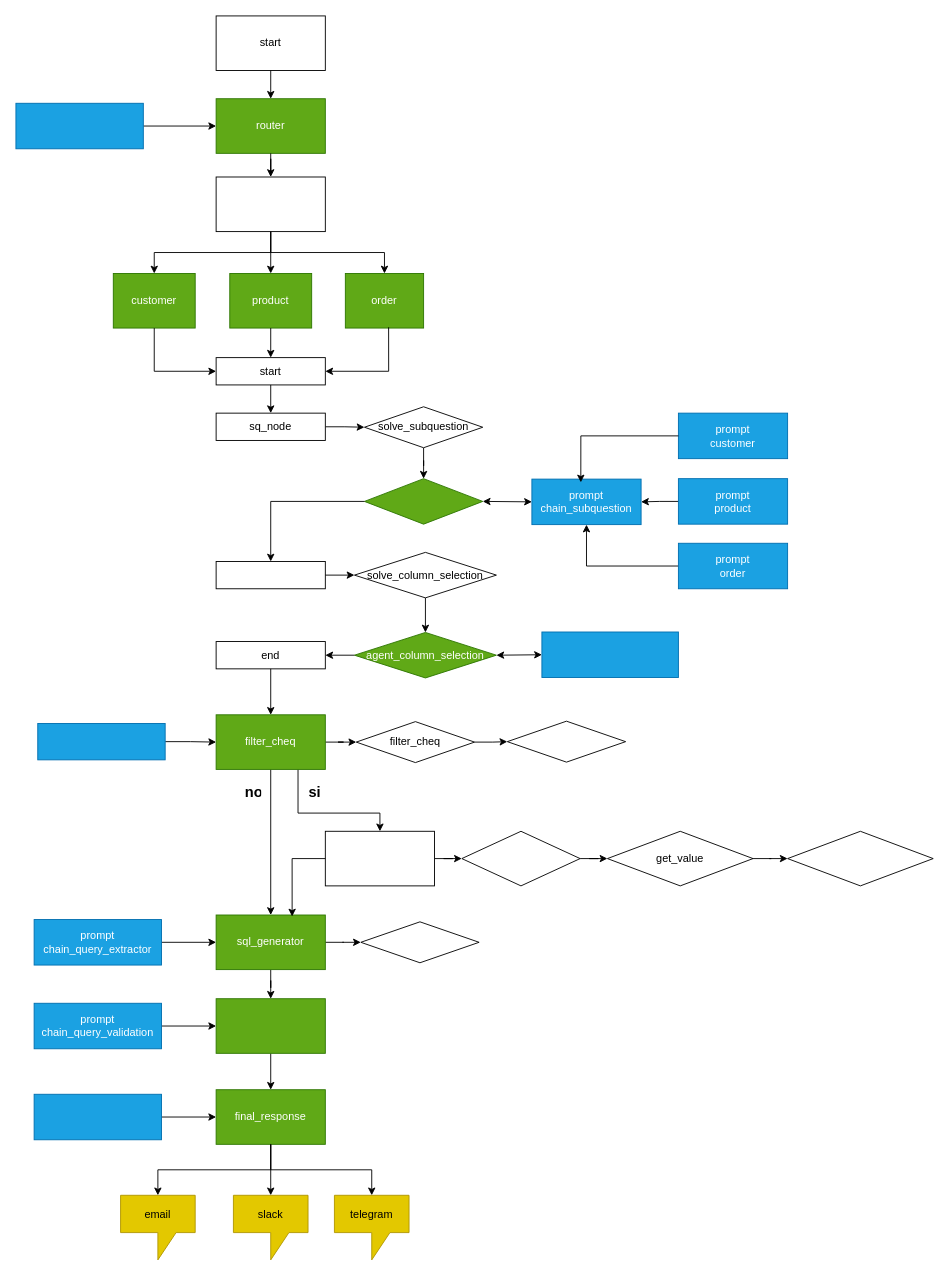
The diagram is 949 pixels wide and 1276 high, and some of its shapes have lost their labels. The shapes that lost their labels are listed below. From the top down, each one's box as (x1, y1, x2, y2) in pixels, then its label:
(15, 102, 143, 149): prompt chain_router
(215, 176, 325, 232): route_request
(364, 478, 483, 524): agent_subquestion
(215, 561, 325, 589): column_node
(541, 631, 678, 677): prompt chain_column_extractor
(37, 723, 165, 760): prompt chain_filter_extractor
(506, 720, 626, 762): remove_duplicate
(324, 830, 435, 886): fuzzy
(461, 830, 580, 886): call_match
(787, 830, 933, 886): get_best_fuzzy_match
(360, 921, 479, 963): query_generator
(215, 998, 325, 1053): query_validation
(33, 1093, 162, 1140): prompt chain_final_response
